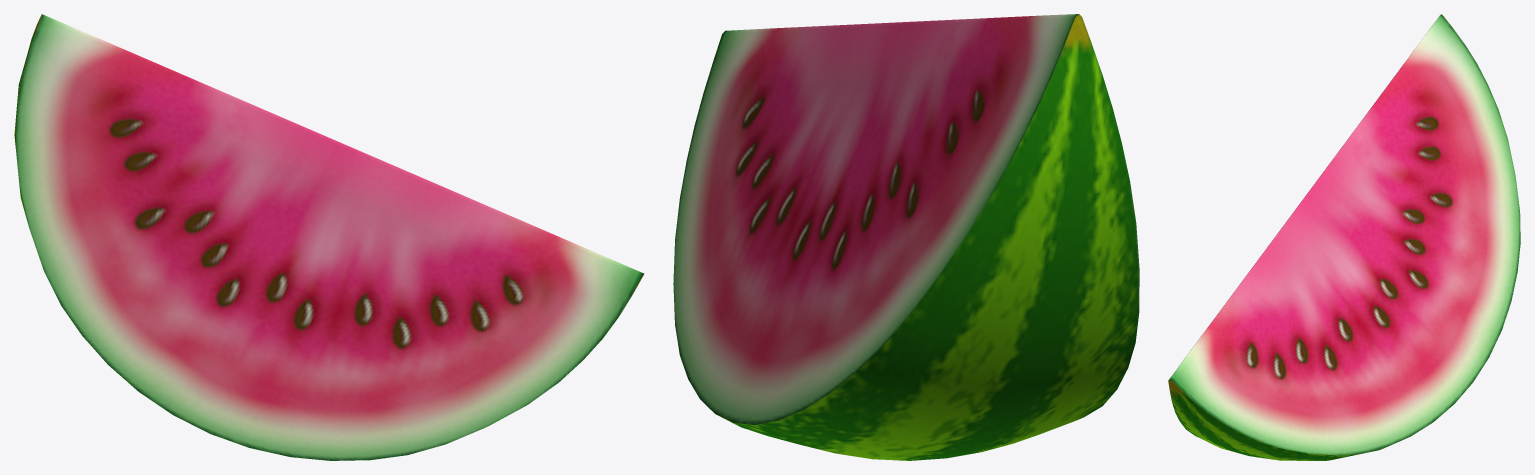
File: watermelon_final_Draco.glb
The picture shows the model from 3 angles, left to right: view 1: azimuth 30°, elevation 25°; view 2: azimuth 150°, elevation 25°; view 3: azimuth 270°, elevation 25°; orthographic projection. The views are drawn at different scales.
Parts seen in each view (by area): view 1: watermelon4; view 2: watermelon4; view 3: watermelon4.
Part boxes in pixels (x1,y1,x2,y2): watermelon4: (14, 14, 644, 460); watermelon4: (673, 14, 1139, 460); watermelon4: (1168, 14, 1520, 460).
Bounding box in the file's own units: 1.02 × 0.8713 × 0.8243.
Materials: 1 (1 with a texture image).
